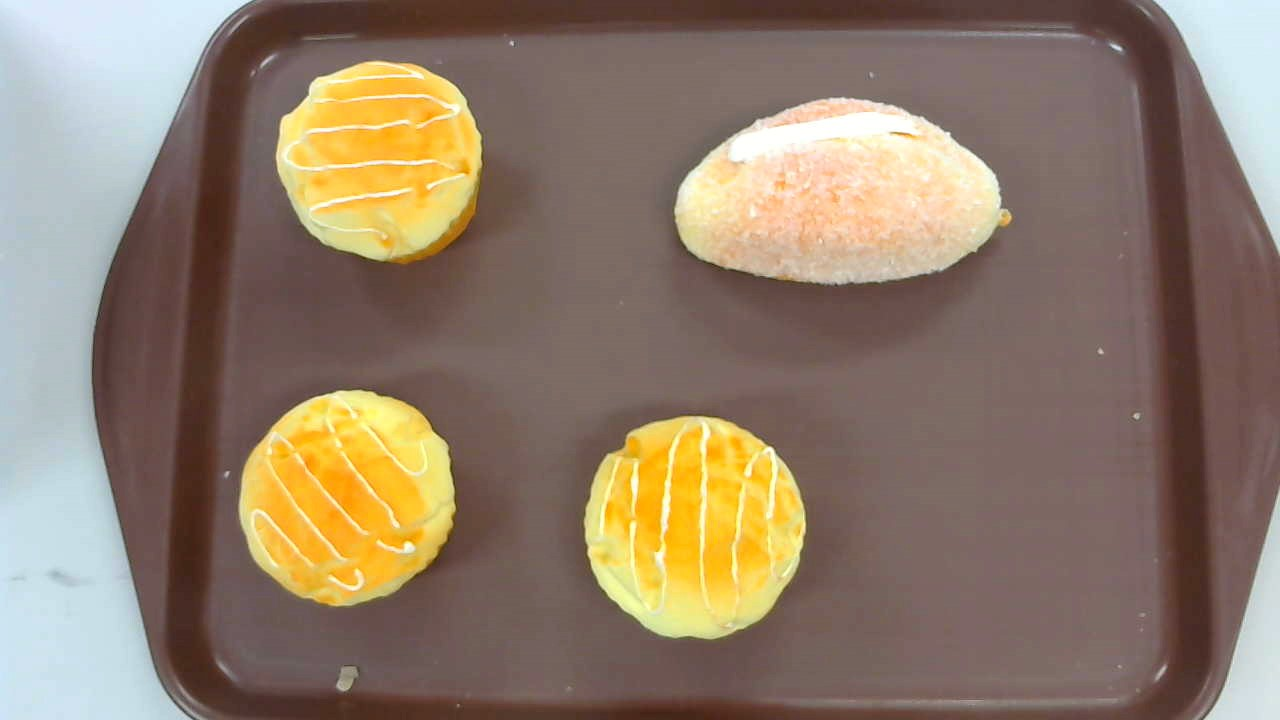coconut: (673, 94, 1011, 284)
cupcake: (583, 411, 807, 641), (237, 389, 456, 605), (275, 59, 482, 265)
